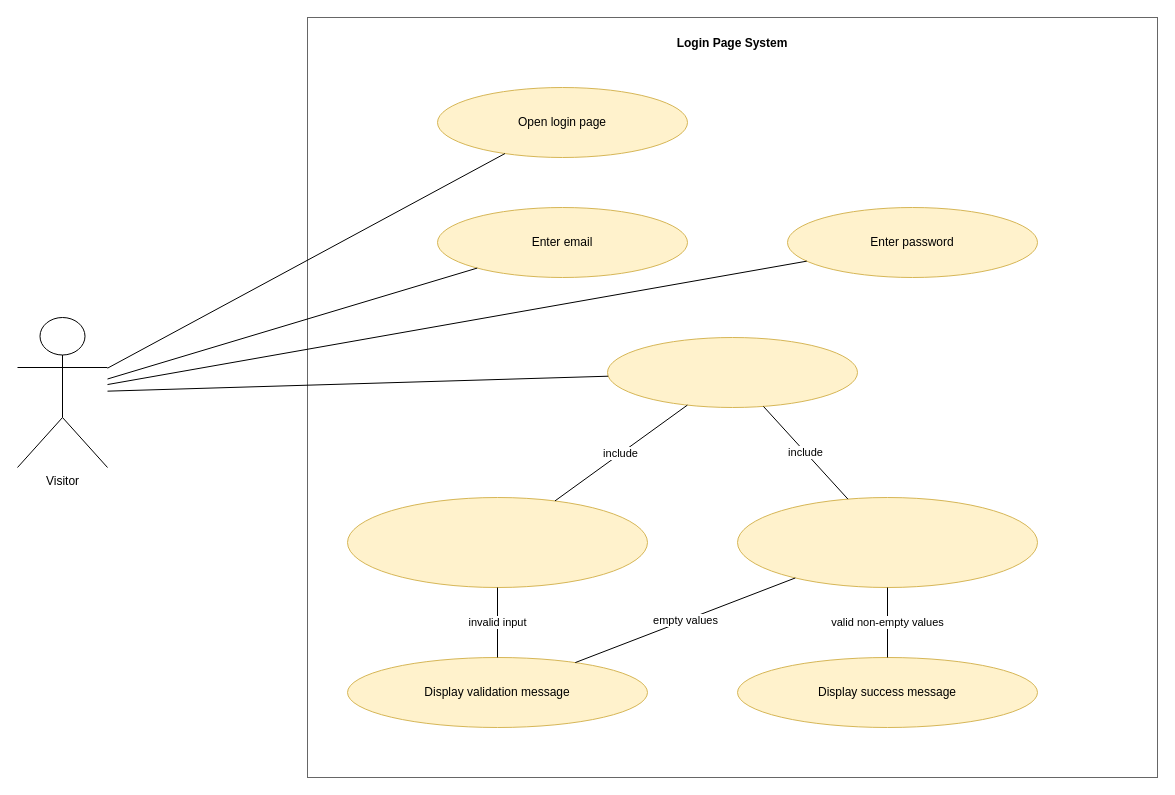
Some shapes in this 1175 by 795 pixel diagram are drawn without their labels. The centre of each missing label's shape, as x and y in pixels:
"Browser validates required fields and email format" belongs at [497,542].
"Check fields are not empty" belongs at [887,542].
"Submit login form" belongs at [732,372].
